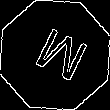M_SW: (23, 22, 87, 88)
